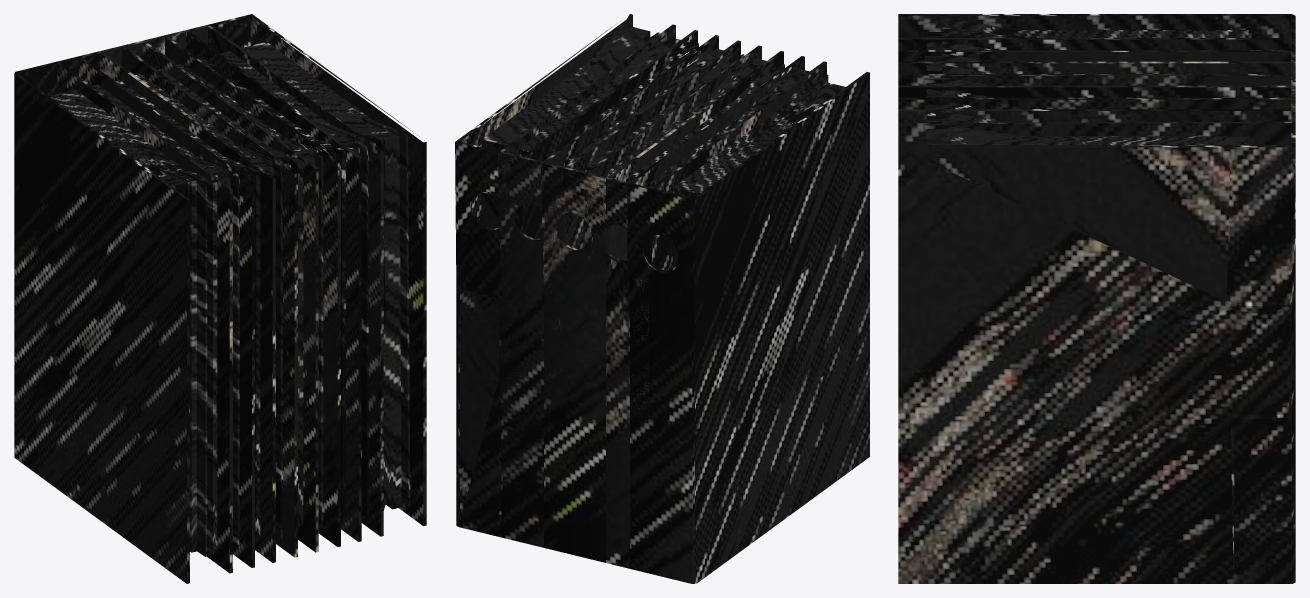
File: office_folders.glb
3 renders of one model, left to right at view 1: azimuth 30°, elevation 25°; view 2: azimuth 150°, elevation 25°; view 3: azimuth 270°, elevation 25°, orthographic. The views are drawn at different scales.
Parts seen in each view (by area): view 1: folder_LP_Bills_Folder_Bills_0, folder_LP_nolabel_Folder_nolabel_0, folder_LP_House_Folder_House_0, folder_LP_TaxRecords_Folder_TaxRecords_0, folder_LP_Work_Folder_Work_0, folder_LP_Work_Folder_nolabel_0; view 2: folder_LP_Bills_Folder_Bills_0, folder_LP_nolabel_Folder_nolabel_0, folder_LP_Work_Folder_Work_0, folder_LP_TaxRecords_Folder_TaxRecords_0, folder_LP_House_Folder_House_0, folder_LP_Work_Folder_nolabel_0; view 3: folder_LP_Work_Folder_Work_0, folder_LP_Bills_Folder_Bills_0, folder_LP_TaxRecords_Folder_TaxRecords_0, folder_LP_nolabel_Folder_nolabel_0, folder_LP_House_Folder_House_0, folder_LP_Work_Folder_nolabel_0.
Part boxes in pixels (left/top/right/bottom): folder_LP_Bills_Folder_Bills_0: left=14, top=56, right=254, bottom=583; folder_LP_nolabel_Folder_nolabel_0: left=100, top=36, right=340, bottom=562; folder_LP_House_Folder_House_0: left=57, top=47, right=297, bottom=573; folder_LP_TaxRecords_Folder_TaxRecords_0: left=143, top=25, right=383, bottom=552; folder_LP_Work_Folder_Work_0: left=186, top=14, right=426, bottom=541; folder_LP_Work_Folder_nolabel_0: left=204, top=41, right=410, bottom=510; folder_LP_Bills_Folder_Bills_0: left=627, top=56, right=869, bottom=583; folder_LP_nolabel_Folder_nolabel_0: left=541, top=35, right=783, bottom=562; folder_LP_Work_Folder_Work_0: left=455, top=14, right=697, bottom=537; folder_LP_TaxRecords_Folder_TaxRecords_0: left=498, top=24, right=740, bottom=547; folder_LP_House_Folder_House_0: left=584, top=45, right=826, bottom=568; folder_LP_Work_Folder_nolabel_0: left=481, top=24, right=678, bottom=228; folder_LP_Work_Folder_Work_0: left=898, top=109, right=1295, bottom=583; folder_LP_Bills_Folder_Bills_0: left=898, top=14, right=1295, bottom=61; folder_LP_TaxRecords_Folder_TaxRecords_0: left=898, top=85, right=1295, bottom=147; folder_LP_nolabel_Folder_nolabel_0: left=898, top=61, right=1295, bottom=109; folder_LP_House_Folder_House_0: left=898, top=38, right=1295, bottom=85; folder_LP_Work_Folder_nolabel_0: left=924, top=111, right=1248, bottom=145.
Bounding box in the file's own units: 0.1859 × 0.28 × 0.2309.
Materials: 6 (6 with a texture image).
